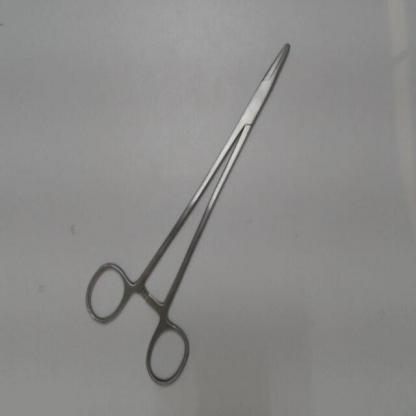8 Mayo Needle Holder: (73, 16, 311, 397)
